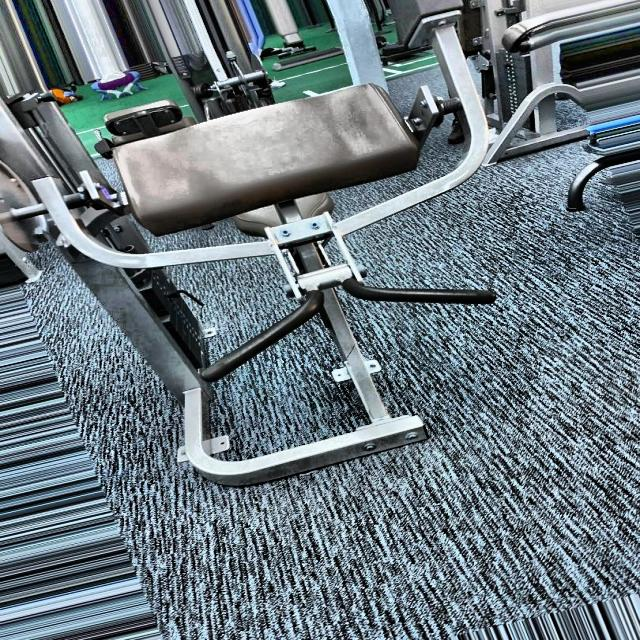bicep_curl_machine: (4, 3, 524, 532)
